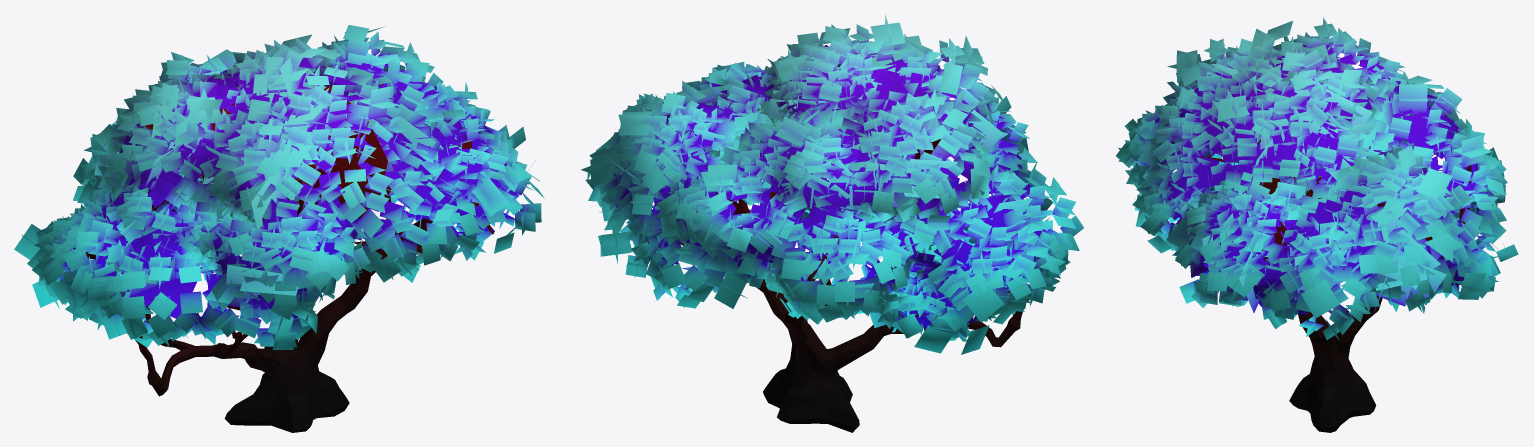
The model's file is SM_Env_Tree_Pohutukawa_01.gltf.
3 views of the same model, side by side, from view 1: azimuth 30°, elevation 25°; view 2: azimuth 150°, elevation 25°; view 3: azimuth 270°, elevation 25° (orthographic). The views are drawn at different scales.
Parts seen in each view (by area): view 1: SM_Env_Tree_Pohutukawa_01_LOD0, SM_Env_Tree_Pohutukawa_01_Branches_LOD0; view 2: SM_Env_Tree_Pohutukawa_01_LOD0; view 3: SM_Env_Tree_Pohutukawa_01_LOD0, SM_Env_Tree_Pohutukawa_01_Branches_LOD0.
Part boxes in pixels (x1,y1,x2,y2): SM_Env_Tree_Pohutukawa_01_LOD0: [14, 25, 544, 432]; SM_Env_Tree_Pohutukawa_01_Branches_LOD0: [86, 83, 479, 310]; SM_Env_Tree_Pohutukawa_01_LOD0: [581, 14, 1083, 432]; SM_Env_Tree_Pohutukawa_01_LOD0: [1116, 17, 1518, 432]; SM_Env_Tree_Pohutukawa_01_Branches_LOD0: [1202, 139, 1471, 262].
Size of the model in its own units: 9.44 by 7.33 by 7.39.
